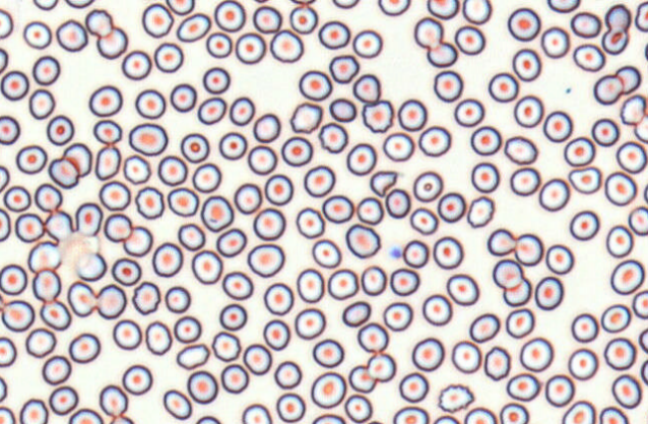RBC: (310, 371, 346, 408), (128, 122, 167, 155), (247, 243, 284, 277), (345, 223, 380, 258), (610, 259, 644, 295), (519, 337, 553, 372), (200, 195, 233, 231), (141, 2, 173, 38), (411, 337, 444, 371), (269, 29, 303, 62), (507, 7, 540, 41), (604, 171, 636, 206), (603, 337, 636, 370), (538, 177, 570, 211), (298, 69, 332, 101), (88, 84, 122, 116), (191, 249, 222, 284), (152, 242, 183, 277), (96, 283, 126, 319), (67, 281, 97, 317), (1, 299, 34, 331), (289, 101, 322, 133), (446, 273, 479, 305), (253, 207, 285, 240), (55, 19, 88, 51), (27, 241, 61, 272), (611, 374, 642, 408), (62, 142, 92, 177), (437, 383, 473, 412), (303, 165, 335, 197), (213, 0, 245, 32), (361, 100, 393, 132), (96, 26, 127, 59), (187, 370, 218, 403), (567, 347, 598, 380), (615, 140, 646, 173), (432, 236, 463, 269), (418, 125, 451, 156), (176, 12, 210, 42), (356, 322, 388, 353), (294, 307, 325, 339), (68, 332, 100, 363), (327, 268, 358, 300), (412, 170, 443, 202), (413, 16, 443, 49), (544, 374, 574, 407), (422, 293, 452, 326), (451, 340, 481, 373), (263, 282, 293, 315), (134, 186, 164, 219), (397, 98, 427, 131), (346, 142, 376, 175), (513, 94, 543, 127), (32, 268, 61, 302), (506, 372, 540, 401), (534, 276, 563, 310), (296, 268, 324, 303), (144, 320, 172, 355), (48, 157, 79, 188), (134, 88, 165, 119), (74, 251, 106, 281), (39, 300, 71, 330), (221, 270, 253, 300), (15, 144, 47, 174), (98, 180, 130, 210), (563, 136, 595, 166), (433, 70, 463, 102), (235, 32, 265, 64), (542, 110, 572, 142), (131, 281, 160, 314), (514, 233, 543, 266), (512, 48, 541, 81), (504, 135, 537, 164), (94, 145, 121, 180), (492, 259, 523, 289), (122, 225, 152, 256), (25, 327, 56, 357), (162, 389, 192, 420), (112, 319, 142, 350), (469, 312, 500, 342), (600, 303, 631, 333), (167, 187, 198, 217), (122, 364, 152, 395), (509, 166, 540, 196), (157, 155, 187, 186), (281, 136, 312, 166), (569, 209, 599, 240), (454, 25, 485, 55), (121, 49, 151, 80), (318, 122, 348, 153), (153, 42, 183, 73), (470, 125, 501, 155), (99, 384, 128, 416), (312, 338, 344, 367), (243, 343, 272, 375), (264, 173, 293, 205), (233, 182, 262, 214), (321, 194, 353, 223), (382, 132, 414, 161), (540, 26, 569, 58), (318, 20, 350, 49), (605, 224, 633, 257), (568, 166, 601, 194), (572, 43, 605, 71), (75, 202, 102, 236), (483, 346, 510, 380), (366, 352, 396, 382), (48, 385, 78, 415), (398, 372, 428, 402), (275, 392, 305, 422), (14, 212, 44, 242), (311, 238, 341, 268), (216, 227, 246, 257), (382, 301, 412, 331), (247, 144, 277, 174), (593, 74, 623, 104), (488, 72, 518, 102), (44, 210, 73, 241), (505, 307, 534, 338), (295, 207, 324, 238), (0, 69, 29, 100), (545, 243, 574, 274), (453, 98, 484, 127), (470, 161, 499, 192), (180, 132, 209, 163), (328, 54, 359, 83), (466, 195, 494, 227), (111, 257, 141, 286), (41, 355, 71, 384), (486, 227, 516, 256), (220, 363, 249, 393), (389, 267, 419, 296), (211, 331, 240, 361), (192, 162, 221, 192), (352, 29, 382, 58), (262, 319, 290, 350), (437, 191, 465, 222), (46, 114, 74, 145), (0, 263, 27, 295), (176, 343, 209, 369), (502, 277, 531, 306), (348, 364, 377, 393), (84, 8, 113, 37), (103, 213, 132, 242), (273, 360, 302, 389), (22, 20, 51, 49), (218, 131, 247, 160), (123, 154, 151, 184), (570, 312, 598, 342), (289, 4, 317, 34), (352, 73, 380, 103), (32, 55, 60, 85), (28, 88, 55, 119), (570, 11, 601, 38), (34, 183, 62, 212), (252, 5, 281, 33), (197, 96, 226, 124), (591, 117, 619, 146), (253, 112, 280, 142), (426, 41, 457, 67), (620, 94, 646, 125), (173, 315, 201, 343), (344, 394, 372, 422), (177, 222, 205, 250), (202, 66, 230, 94), (342, 300, 371, 327), (356, 196, 383, 225), (409, 207, 438, 234), (169, 83, 196, 112), (561, 400, 595, 423), (384, 188, 410, 218), (360, 265, 386, 295), (3, 185, 31, 212), (219, 303, 247, 330), (604, 3, 631, 31), (615, 65, 641, 94), (402, 239, 428, 268), (205, 31, 232, 58), (164, 285, 190, 313), (19, 398, 48, 423), (229, 96, 254, 125), (601, 28, 628, 54), (328, 97, 356, 122), (93, 119, 121, 144), (462, 0, 491, 24), (241, 403, 272, 423), (392, 406, 428, 423), (499, 402, 528, 423), (426, 0, 458, 19), (0, 115, 20, 144), (628, 205, 647, 235), (463, 406, 496, 423), (377, 0, 410, 16), (68, 408, 103, 423), (0, 336, 16, 367), (599, 406, 628, 423), (632, 289, 647, 319), (546, 0, 580, 13), (165, 0, 194, 15), (0, 8, 13, 39), (634, 1, 647, 32), (634, 114, 647, 143), (311, 413, 345, 423), (0, 208, 10, 241), (0, 405, 15, 423), (32, 0, 58, 10), (331, 0, 359, 9), (0, 165, 9, 192), (432, 414, 459, 423), (64, 0, 94, 8), (638, 327, 647, 353), (388, 245, 402, 260), (0, 47, 8, 73), (195, 415, 221, 423), (109, 415, 134, 423), (0, 376, 7, 402), (640, 359, 647, 385), (643, 182, 648, 204), (289, 0, 316, 4), (365, 419, 383, 424), (643, 407, 648, 423), (644, 41, 648, 61), (252, 0, 272, 3)
Schistocyte: (369, 170, 398, 196)
